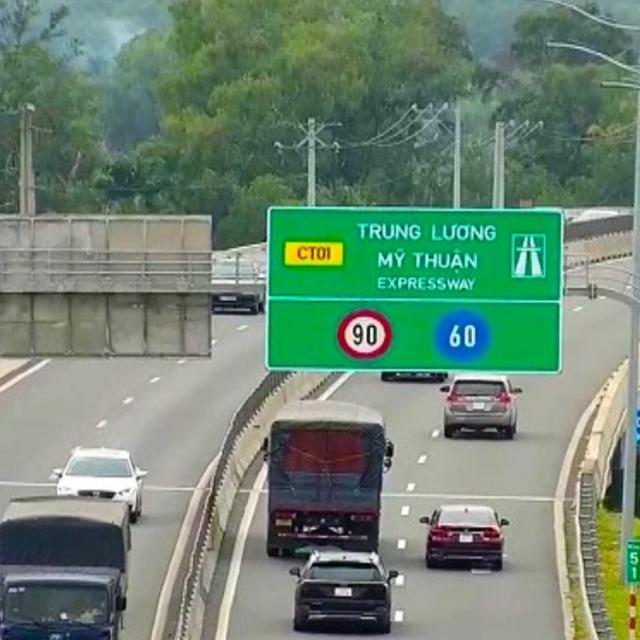Speed Limit -90-: (336, 308, 392, 361)
